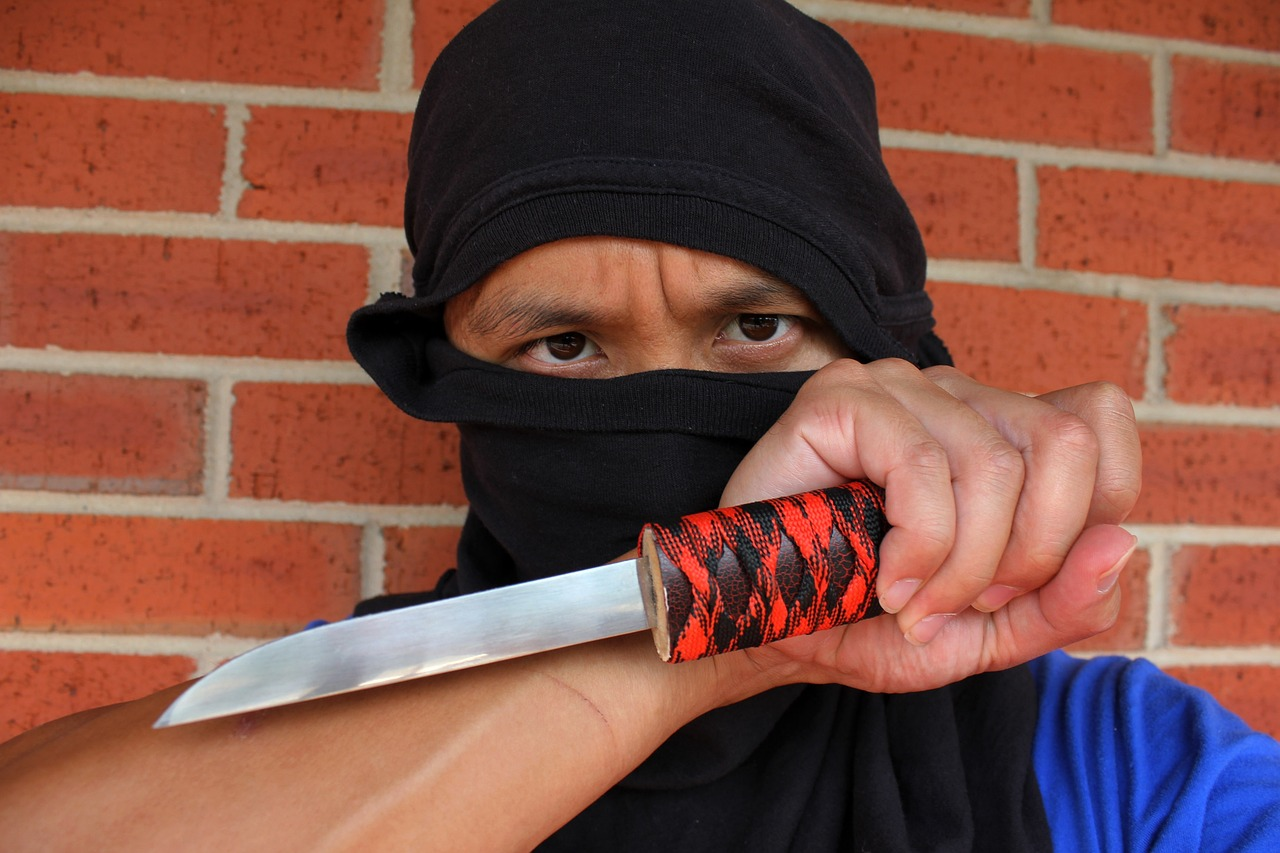knife: (140, 477, 892, 740)
